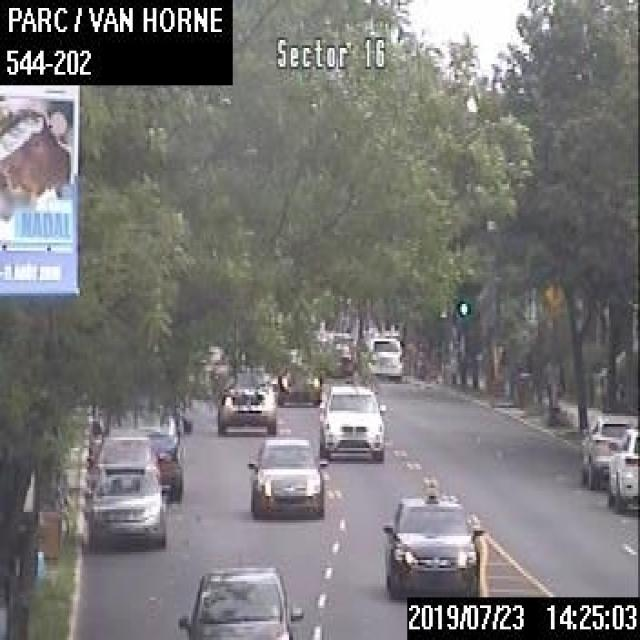vehicle: (381, 490, 484, 594), (176, 560, 303, 637), (89, 402, 181, 494), (82, 466, 170, 547), (245, 433, 326, 515), (316, 382, 385, 459), (579, 414, 638, 486), (217, 366, 276, 431), (84, 432, 161, 480), (605, 425, 638, 512), (277, 354, 323, 406), (360, 334, 403, 376), (326, 330, 357, 374)
